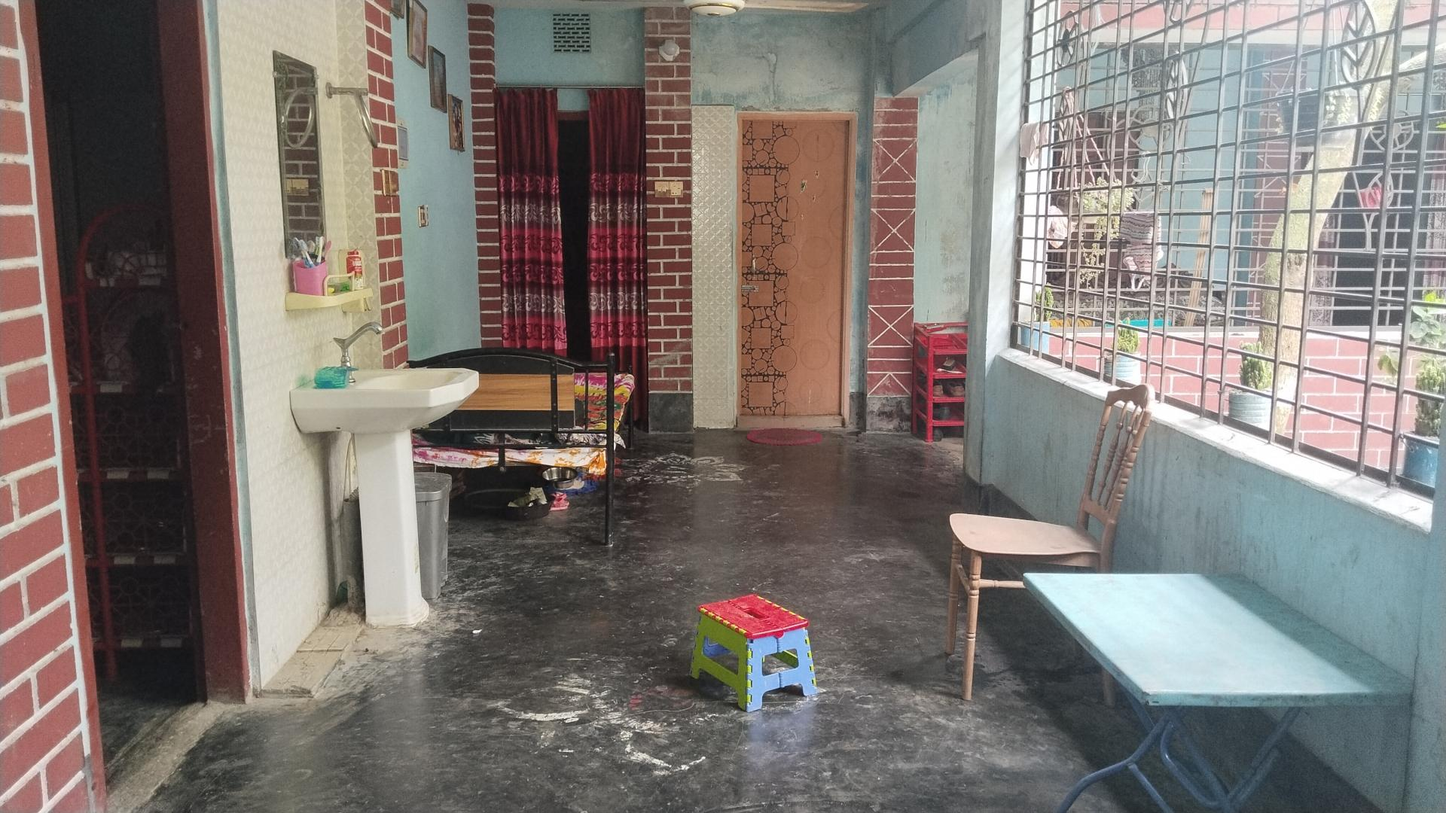Chair: (952, 380, 1157, 710)
Door: (734, 113, 847, 422)
Stool: (692, 595, 817, 700)
Table: (1027, 571, 1421, 813)
